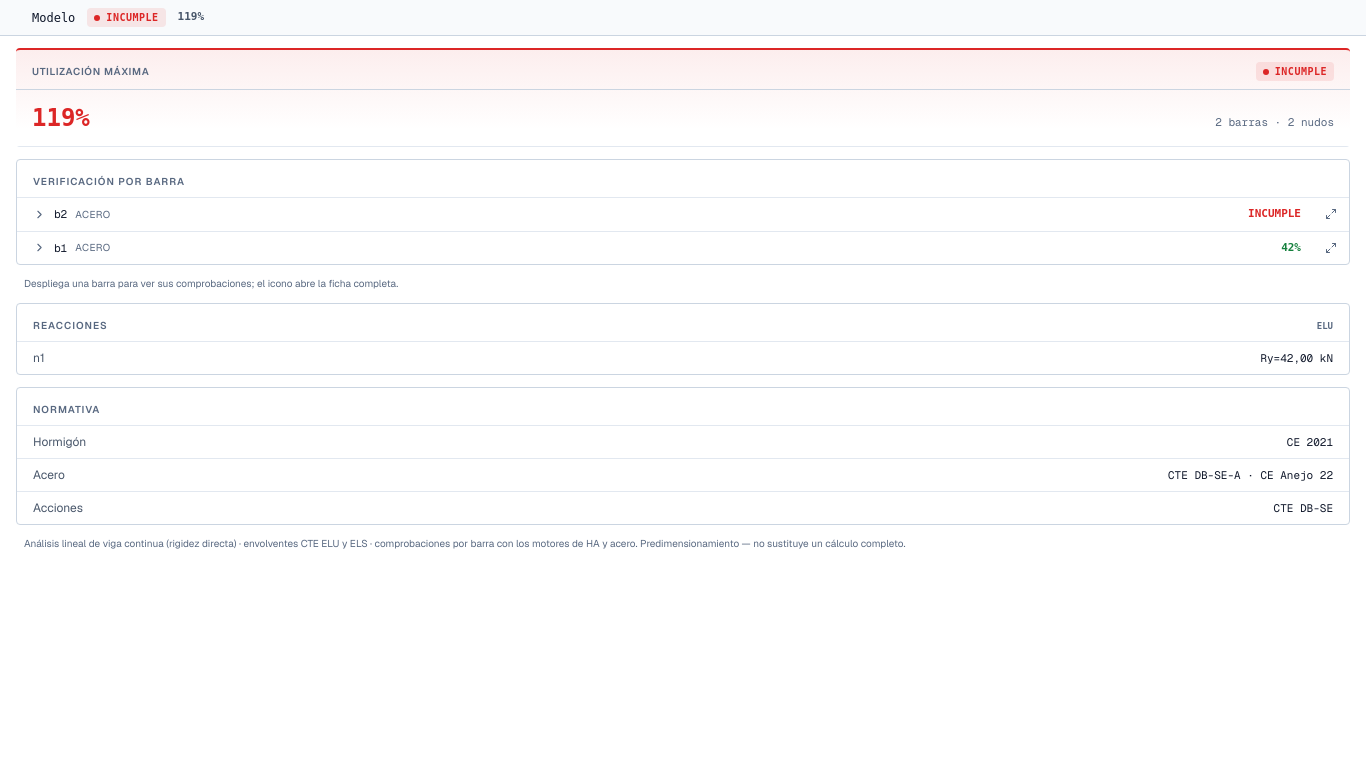
Test: FEM 1D — resumen del modelo › desplegar una barra enseña sus comprobaciones CON unidad
Expected: the text "Comprobación flexion" is not shown
Step 1. Click the button "b1 Acero 42%" → [93, 248], box [17,232,1317,264]
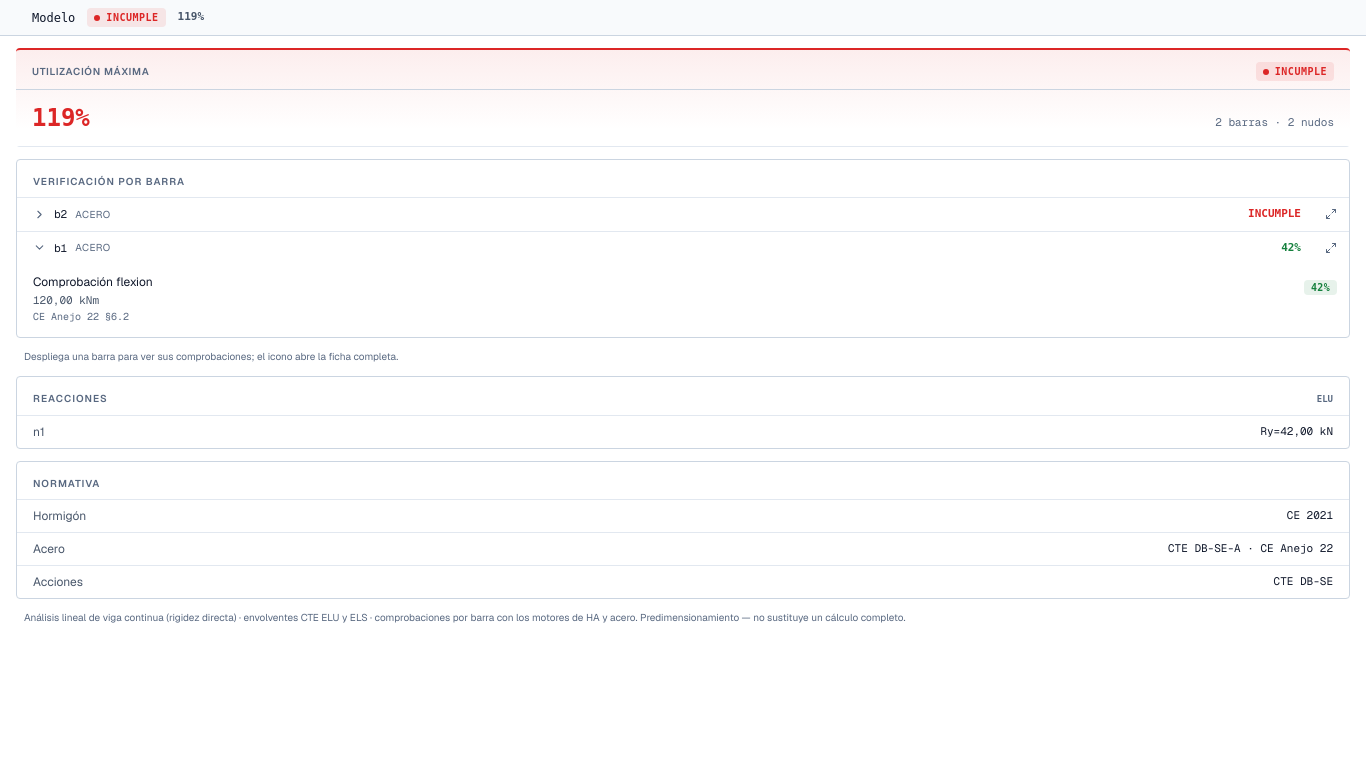
Now the text "Comprobación flexion" is shown, box [33,274,153,290]
Now the text "120,00 kNm" is shown, box [33,292,99,306]
